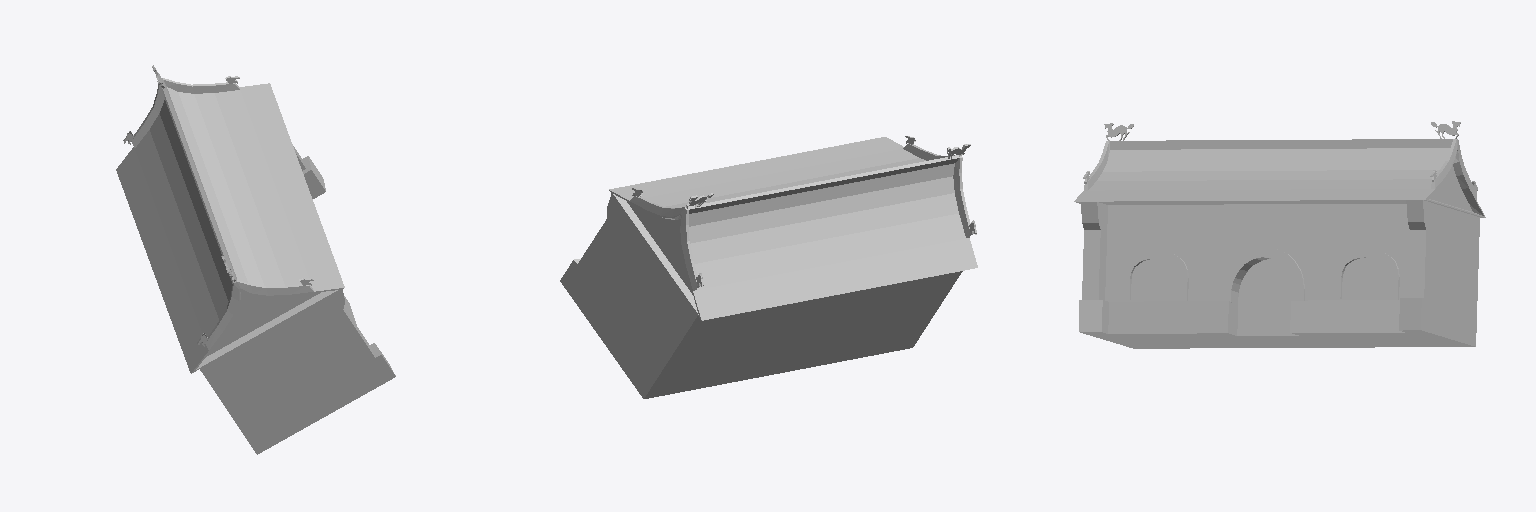
The model's file is idk.obj.
3 renders of one model, left to right at view 1: azimuth 30°, elevation 25°; view 2: azimuth 150°, elevation 25°; view 3: azimuth 270°, elevation 25°, orthographic.
Parts seen in each view (by area): view 1: china; view 2: china; view 3: china.
Boxes of the visible parts, box(x1,y1,x2,y2) form: china: box(116, 65, 395, 454); china: box(560, 136, 977, 398); china: box(1074, 121, 1485, 348).
Size of the model in its own units: 0.8369 by 0.7426 by 1.09.